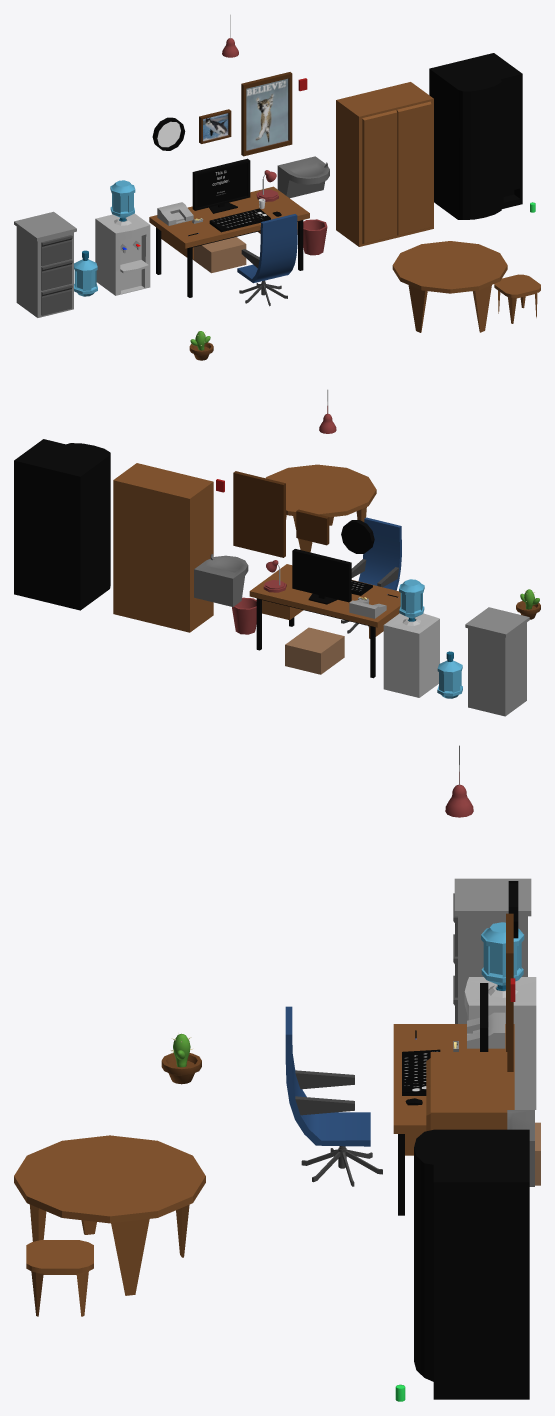
Rendered from Props.fbx.
3 renders of one model, top to bottom at view 1: azimuth 30°, elevation 25°; view 2: azimuth 150°, elevation 25°; view 3: azimuth 270°, elevation 25°, orthographic. The views are drawn at different scales.
Visible parts, largest first — view 1: pCube19, pCube21, pCylinder12, pCube40, pCube39, pCube3, pCube24, pCube38, pCube4, pCylinder6, pCube25, pCube27 (+7 smaller); view 2: pCube21, pCube19, pCube40, pCube39, pCylinder12, pCube3, pCube24, pCube4, pCube38, pCylinder6, pCube25, pCube23 (+6 smaller); view 3: pCube21, pCylinder12, pCube19, pCube38, pCube39, pCube40, pCube3, pCube27, pCylinder13, pCube5, pCube24, pCube22 (+1 smaller).
Boxes of the visible parts, x1,y1,x2,y2 form: pCube19: (336, 82, 433, 246); pCube21: (429, 53, 522, 219); pCylinder12: (392, 241, 507, 332); pCube40: (14, 211, 76, 317); pCube39: (95, 180, 150, 295); pCube3: (149, 186, 309, 297); pCube24: (241, 72, 292, 156); pCube38: (237, 214, 297, 306); pCube4: (192, 158, 250, 213); pCylinder6: (277, 156, 329, 198); pCube25: (193, 237, 246, 273); pCube27: (494, 274, 540, 323); pCube21: (14, 439, 110, 610); pCube19: (113, 463, 213, 632); pCube40: (465, 607, 529, 716); pCube39: (383, 579, 439, 697); pCylinder12: (266, 464, 376, 552); pCube3: (249, 564, 400, 678); pCube24: (233, 471, 285, 557); pCube4: (292, 549, 351, 604); pCube38: (341, 517, 401, 633); pCylinder6: (194, 555, 248, 606); pCube25: (285, 627, 344, 674); pCube23: (296, 509, 329, 545); pCube21: (414, 1129, 529, 1399); pCylinder12: (14, 1135, 205, 1295); pCube19: (426, 1052, 507, 1131); pCube38: (285, 1006, 382, 1186); pCube39: (464, 922, 536, 1109); pCube40: (453, 878, 531, 1023); pCube3: (393, 1024, 514, 1215); pCube27: (26, 1240, 93, 1316); pCylinder13: (161, 1033, 201, 1084); pCube5: (402, 1049, 440, 1095); pCube24: (506, 913, 513, 1071); pCube22: (467, 1012, 505, 1048).
Bounding box in the file's own units: 9.68 × 4.92 × 5.49.
1 material, 1 textured.
